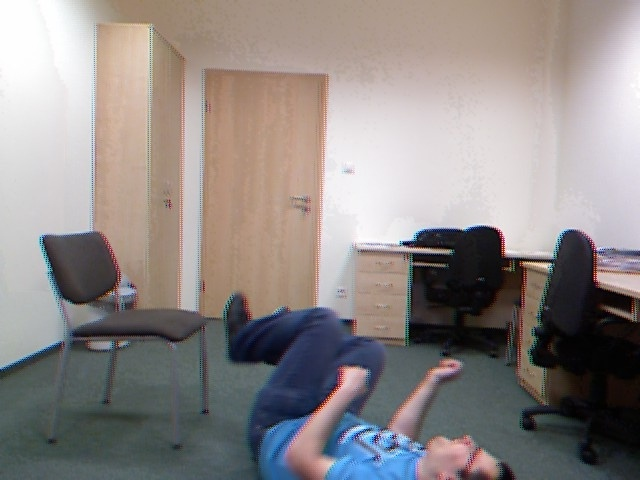fall: (219, 286, 517, 480)
